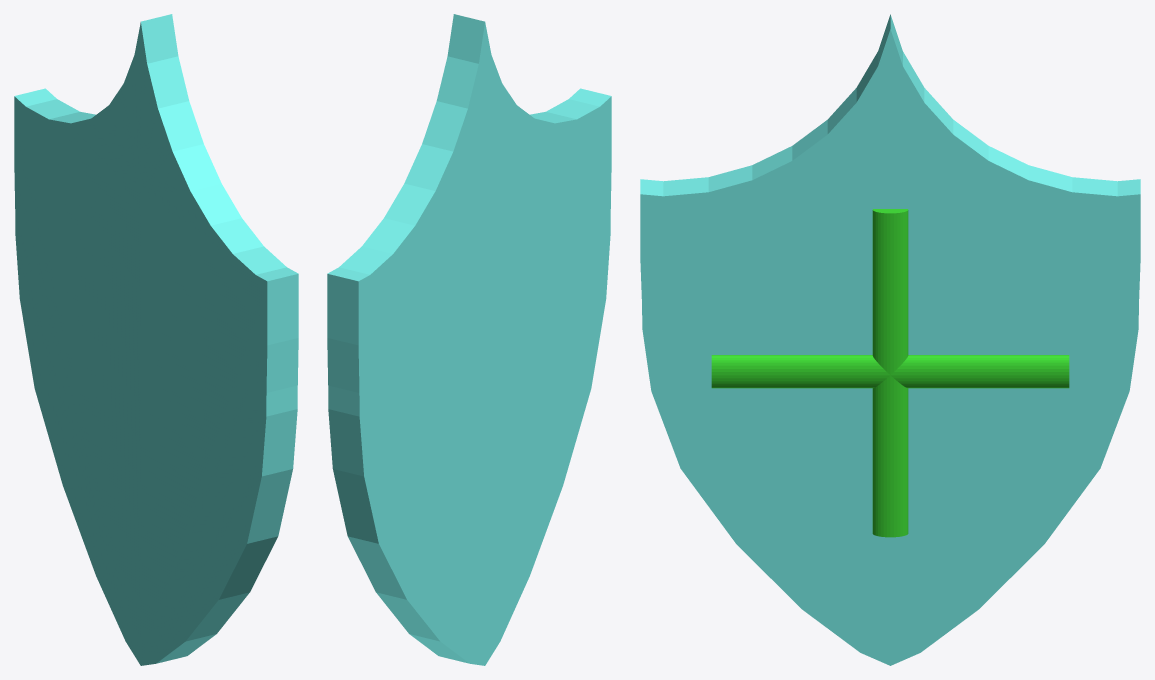
Rendered from Escudo.fbx.
The picture shows the model from 3 angles, left to right: view 1: azimuth 30°, elevation 25°; view 2: azimuth 150°, elevation 25°; view 3: azimuth 270°, elevation 25°; orthographic projection.
Visible parts, largest first — view 1: Escudo; view 2: Escudo; view 3: Escudo.
Part boxes in pixels (x1,y1,x2,y2): Escudo: (14, 14, 298, 665); Escudo: (327, 14, 611, 665); Escudo: (640, 14, 1140, 665).
Size of the model in its own units: 2.58 by 39.32 by 28.
